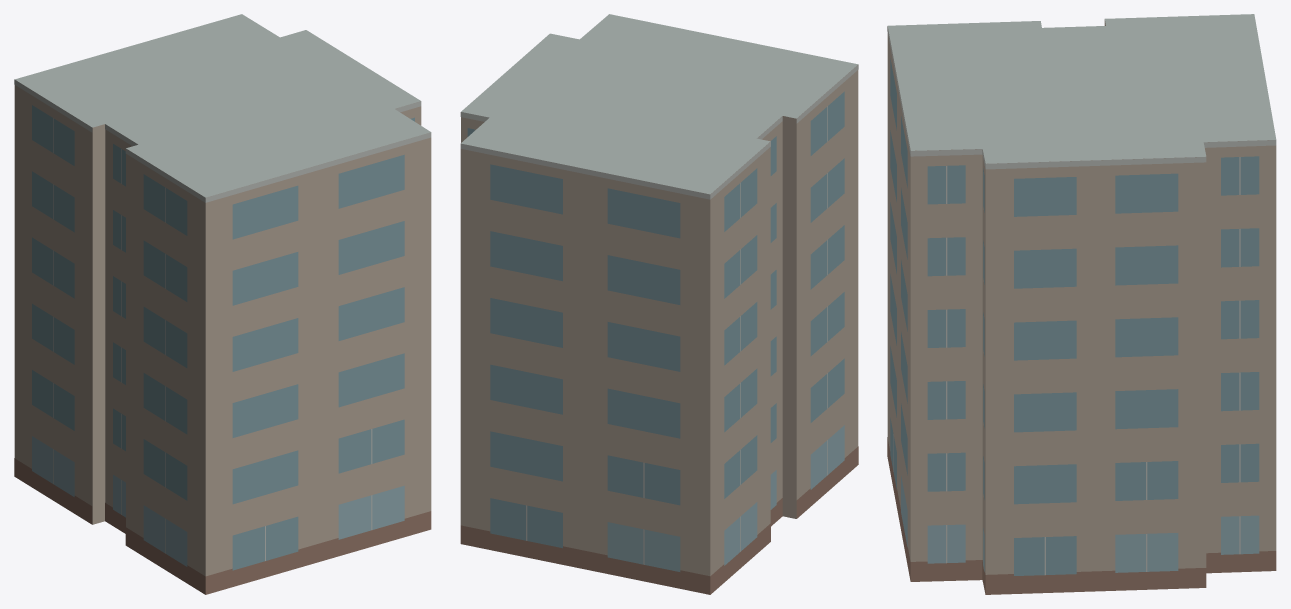
The model's file is survey-upis-32699098.glb.
The picture shows the model from 3 angles, left to right: view 1: azimuth 30°, elevation 25°; view 2: azimuth 150°, elevation 25°; view 3: azimuth 270°, elevation 25°; orthographic projection. The views are drawn at different scales.
Parts seen in each view (by area): view 1: survey-upis-32699098.tmp; view 2: survey-upis-32699098.tmp; view 3: survey-upis-32699098.tmp.
Boxes of the visible parts, x1=… form: survey-upis-32699098.tmp: x1=14, y1=14, x2=431, y2=594; survey-upis-32699098.tmp: x1=460, y1=14, x2=858, y2=594; survey-upis-32699098.tmp: x1=887, y1=14, x2=1276, y2=594.
Bounding box in the file's own units: 13.87 × 18.6 × 15.22.
